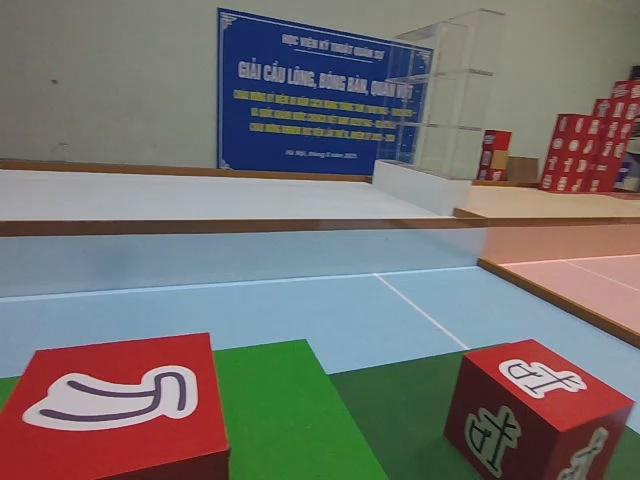R2 Fake: (1, 330, 230, 480)
R2 Real: (441, 339, 633, 480)
